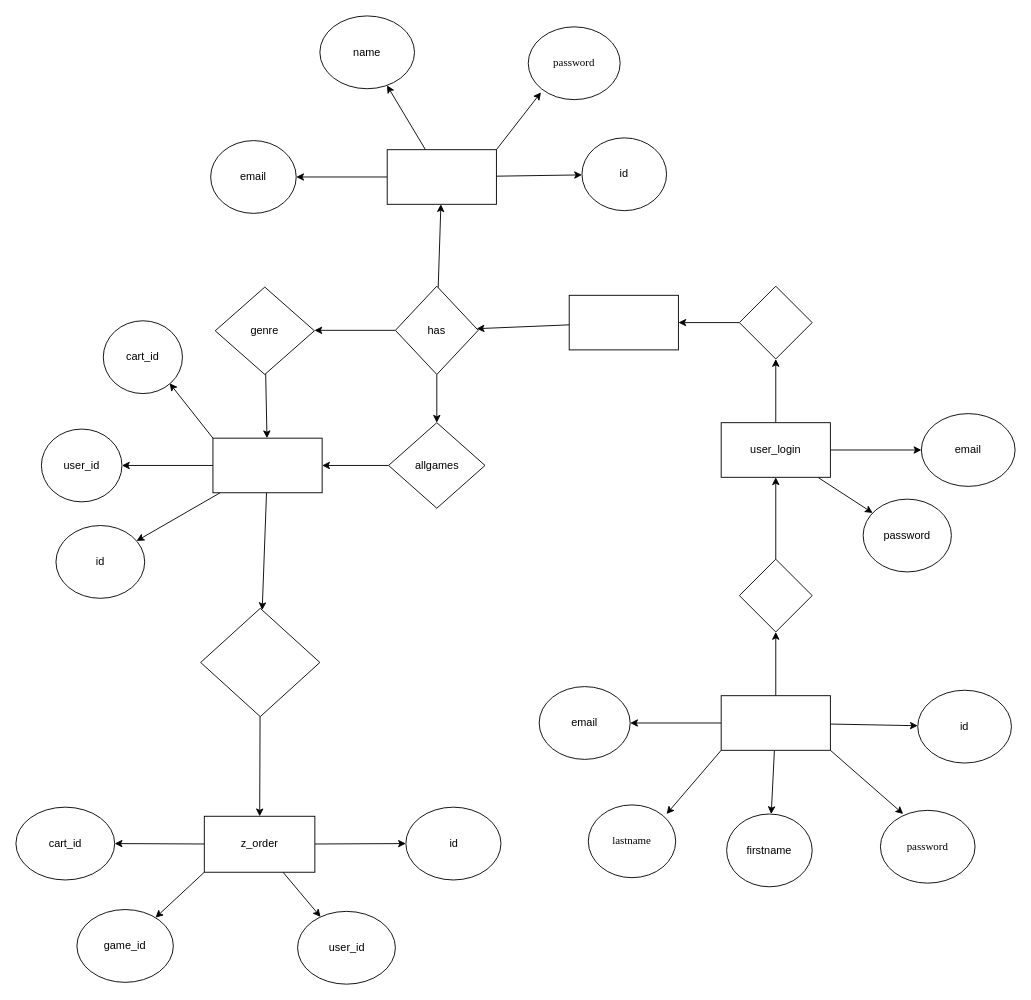
Image size: 1031x1000. Some labels were removed from this diagram. Here are the shapes that lost their labels. From the top down, the centre of each, then its label:
At [441,176]: "contact_us".
At [623,322]: "frontend".
At [775,322]: "handle".
At [267,465]: "cart".
At [775,595]: "go".
At [260,662]: "checkout".
At [775,722]: "usersignup".
